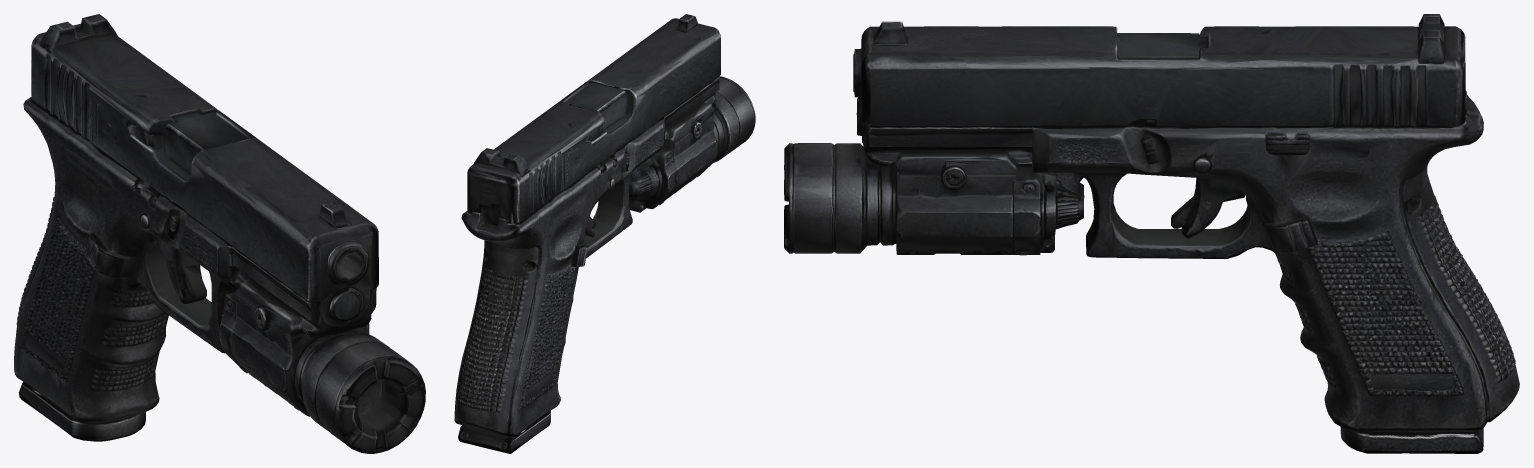
The model's file is p_pistol.fbx.
3 views of the same model, side by side, from view 1: azimuth 30°, elevation 25°; view 2: azimuth 150°, elevation 25°; view 3: azimuth 270°, elevation 25° (orthographic). The views are drawn at different scales.
Parts seen in each view (by area): view 1: Part; view 2: Part; view 3: Part.
Boxes of the visible parts, box(x1,y1,x2,y2) form: Part: box(14, 14, 425, 453); Part: box(454, 14, 755, 453); Part: box(784, 14, 1519, 453).
Bounding box in the file's own units: 0.0389 × 0.1482 × 0.24.
